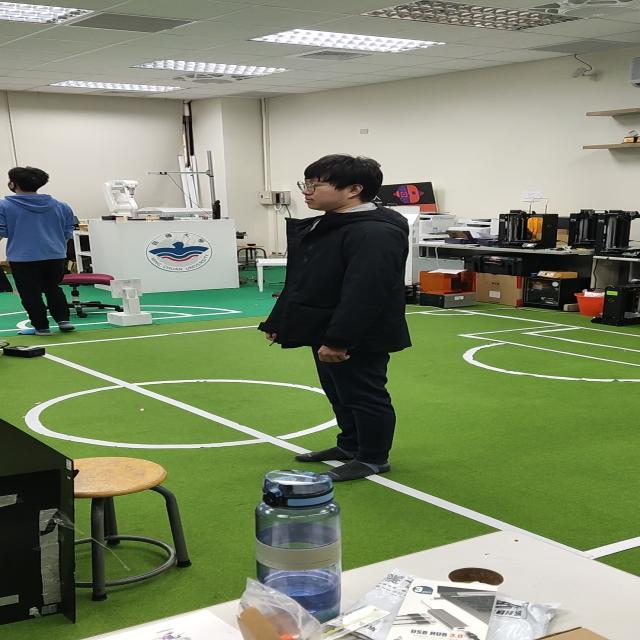person: (247, 144, 434, 468), (0, 159, 95, 337)
